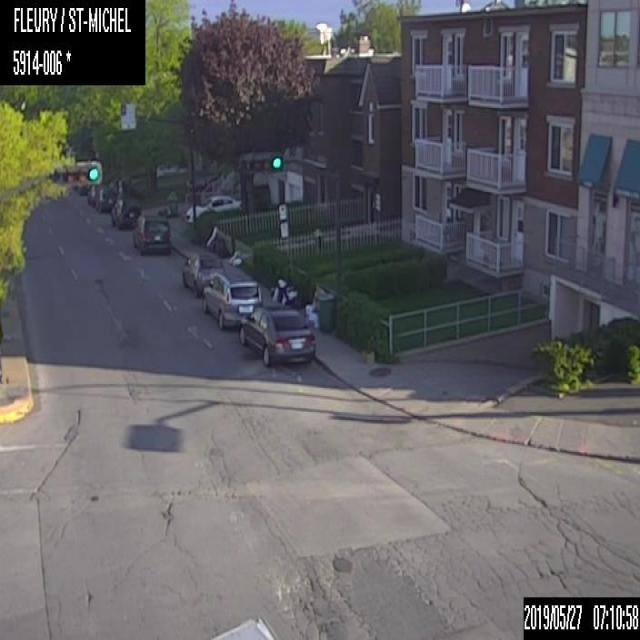vehicle: (238, 303, 315, 366), (202, 270, 262, 330), (182, 252, 224, 296), (185, 194, 241, 224), (131, 213, 171, 255), (110, 194, 140, 229), (94, 188, 116, 212), (86, 184, 102, 205)
